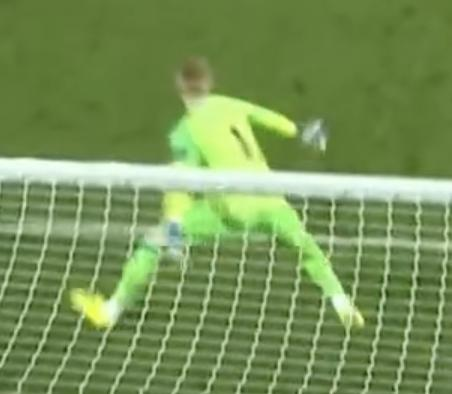goalkeeper: (23, 19, 389, 358)
